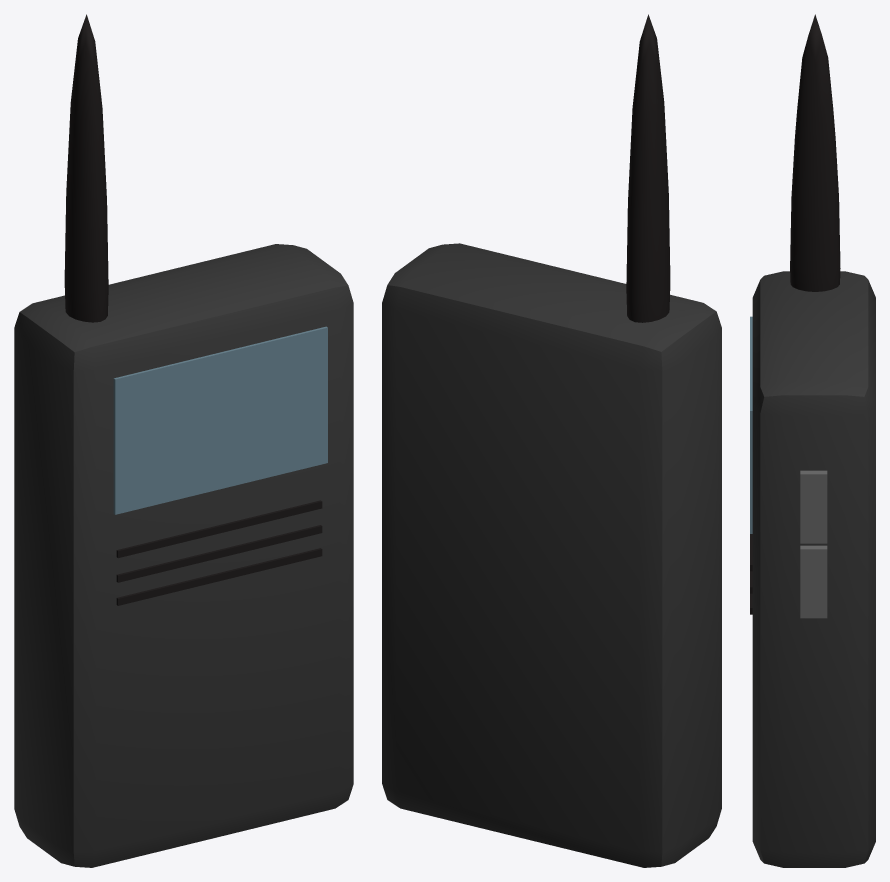
Rendered from Radio.fbx.
3 renders of one model, left to right at view 1: azimuth 30°, elevation 25°; view 2: azimuth 150°, elevation 25°; view 3: azimuth 270°, elevation 25°, orthographic. The views are drawn at different scales.
Visible parts, largest first — view 1: Radio; view 2: Radio; view 3: Radio.
Part boxes in pixels (x1,y1,x2,y2): Radio: (14,14,353,867); Radio: (382,14,721,867); Radio: (750,14,875,867).
Bounding box in the file's own units: 7.88 × 20.87 × 3.15.
